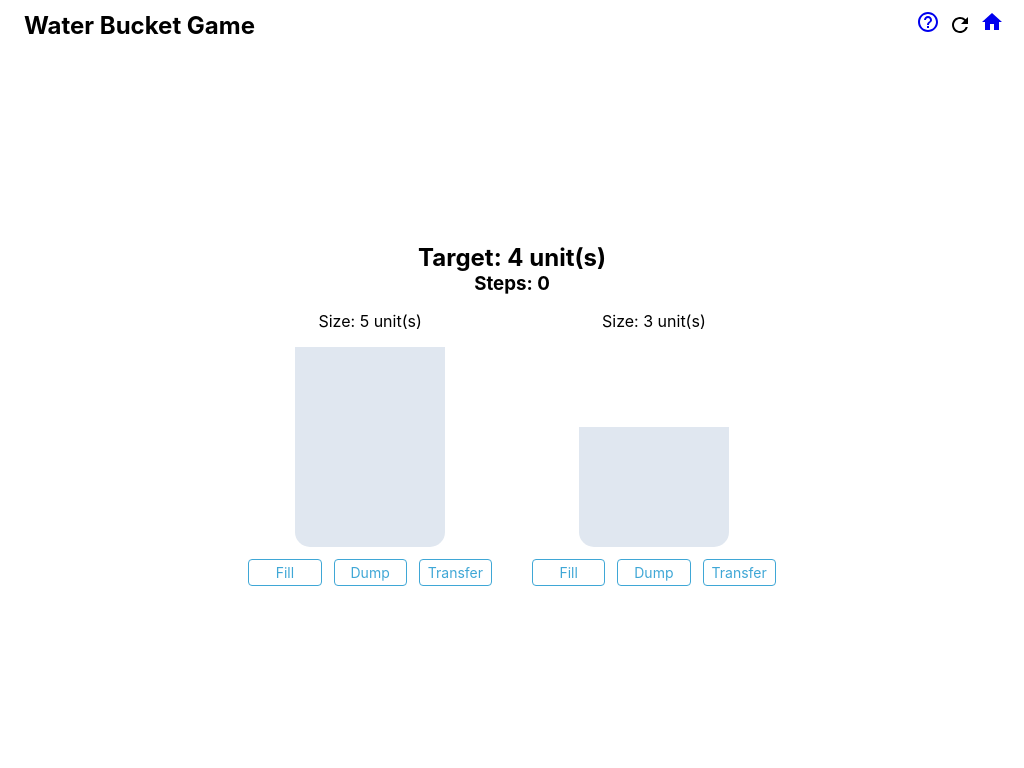
Test: <BucketGame> › resets game correctly
Click the 1st button "Fill": (285, 572) x1=248 y1=558 x2=322 y2=586
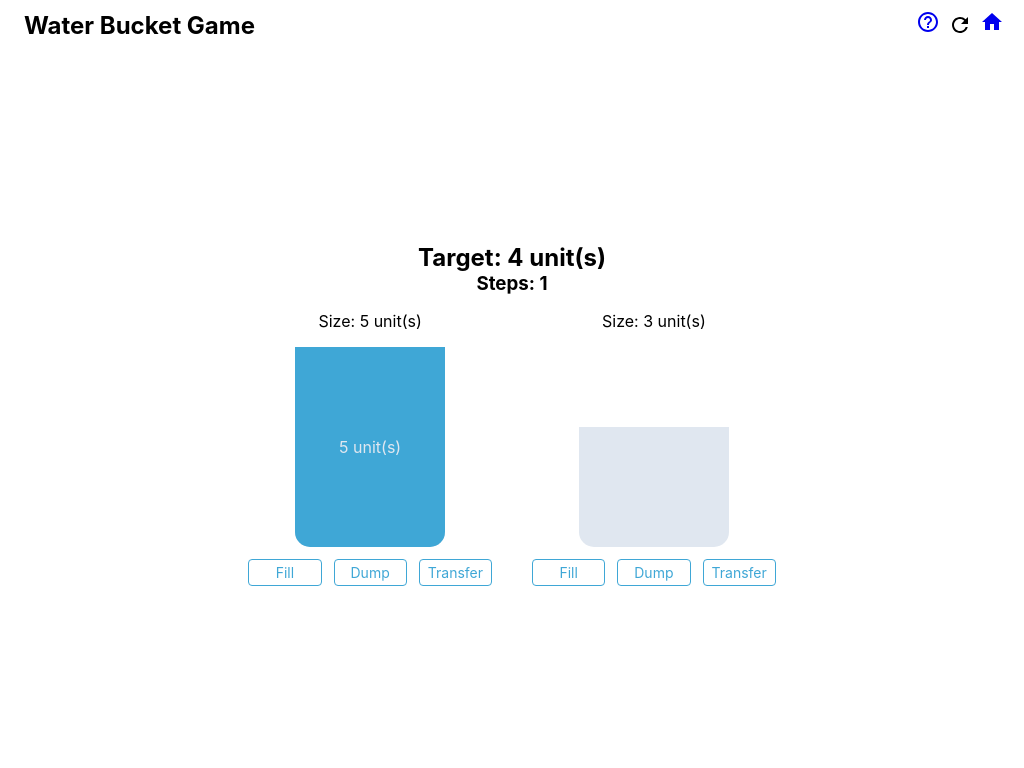
Click the 1st button "Transfer": (455, 572) x1=419 y1=558 x2=492 y2=586
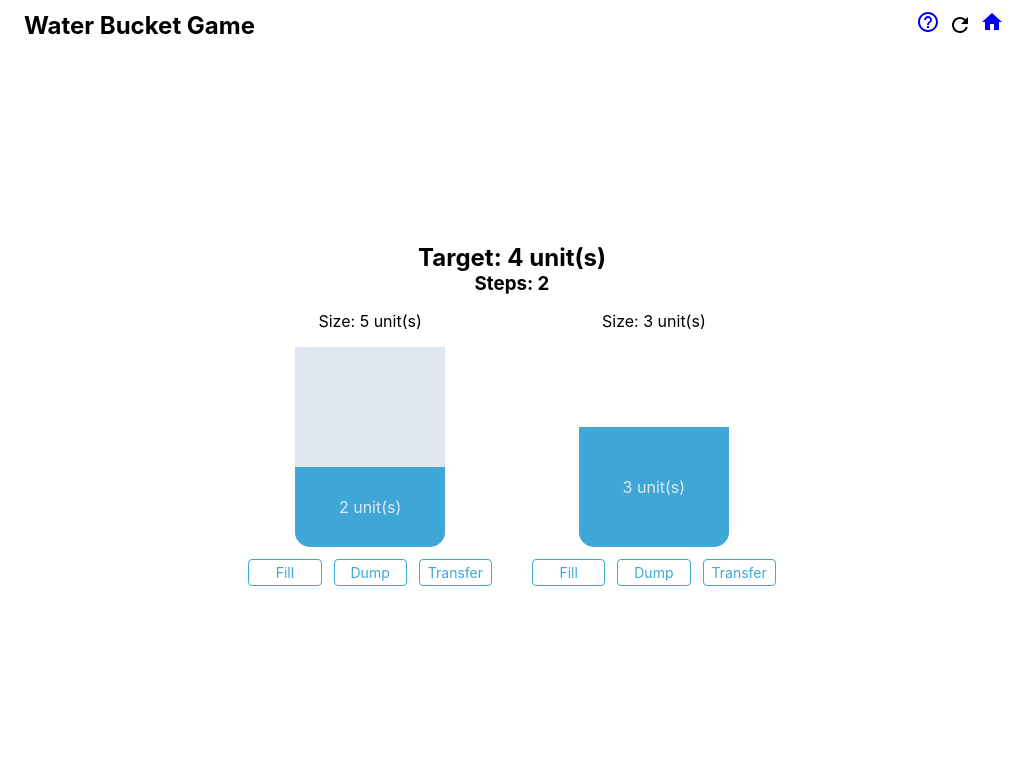
Click the 2nd button "Dump": (654, 572) x1=617 y1=558 x2=691 y2=586
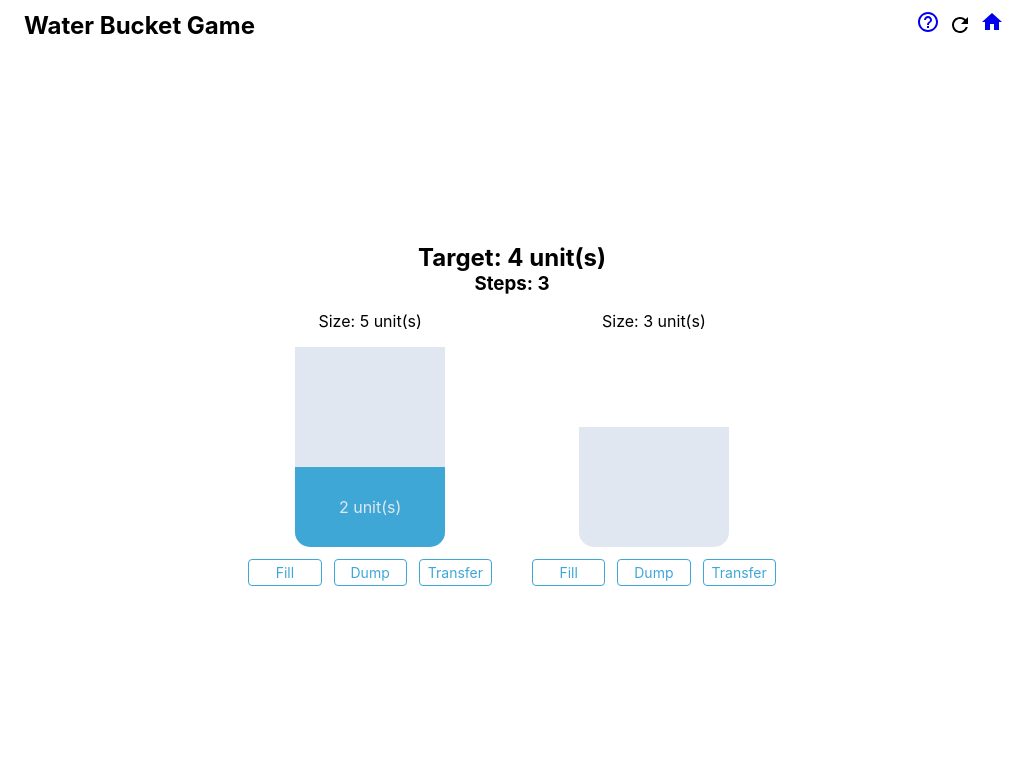
Result: the heading "Steps: 3" is shown at x1=474 y1=272 x2=550 y2=294
Click the icon with test id "resetIcon": (960, 25) x1=948 y1=13 x2=972 y2=37
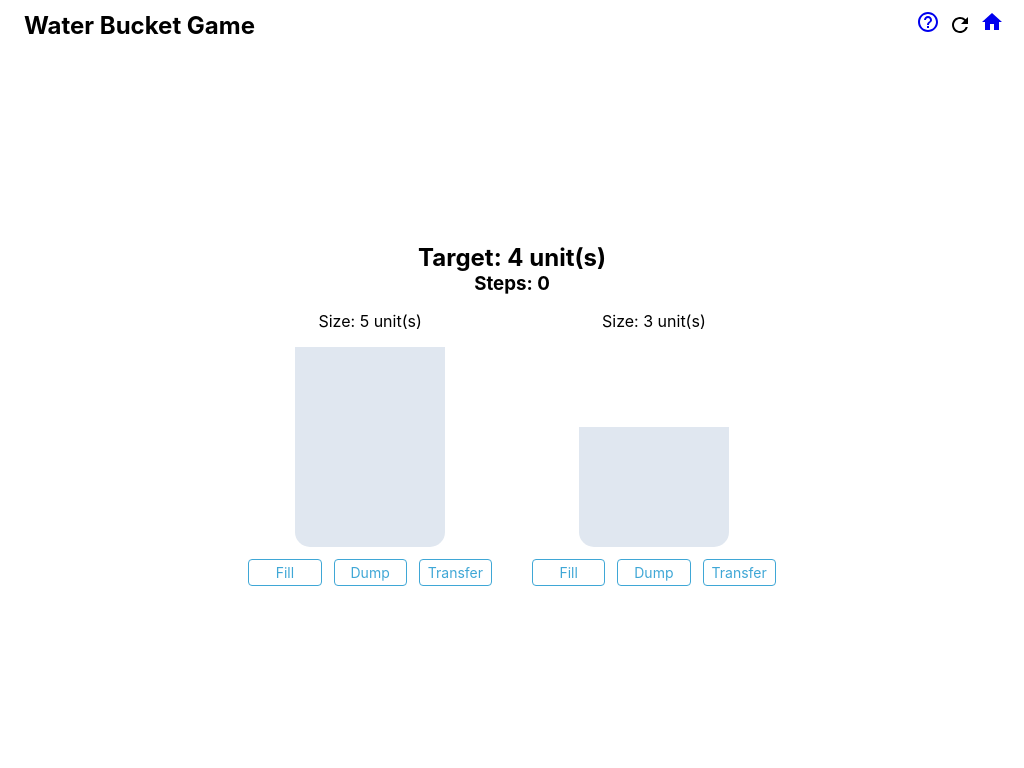
Result: the heading "Steps: 0" is shown at x1=474 y1=272 x2=550 y2=294
